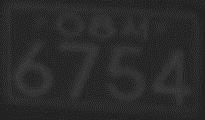0: (55, 12, 85, 38)
4: (151, 48, 191, 106)
5: (105, 44, 145, 102)
6: (12, 39, 54, 97)
7: (56, 40, 100, 97)
8: (88, 13, 117, 39)
서: (119, 13, 150, 41)
